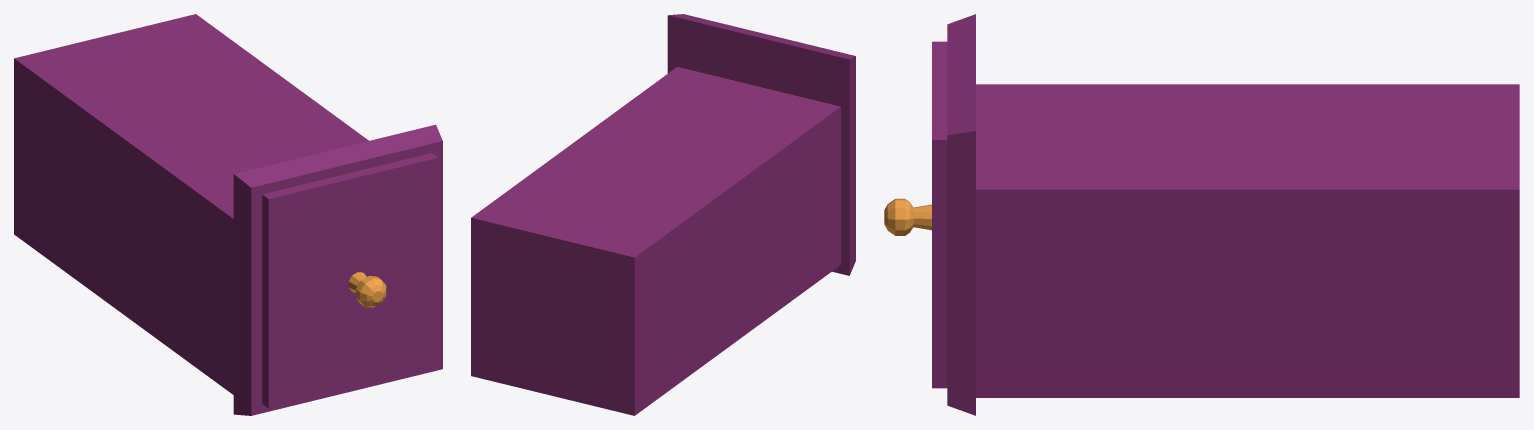
File: SmallDrawer.fbx
3 renders of one model, left to right at view 1: azimuth 30°, elevation 25°; view 2: azimuth 150°, elevation 25°; view 3: azimuth 270°, elevation 25°, orthographic. The views are drawn at different scales.
Visible parts, largest first — view 1: SmallDrawer; view 2: SmallDrawer; view 3: SmallDrawer.
Boxes of the visible parts, x1,y1,x2,y2 form: SmallDrawer: (14,14,442,415); SmallDrawer: (471,14,855,415); SmallDrawer: (884,14,1519,415).
Size of the model in its own units: 450 by 512 by 1033.
